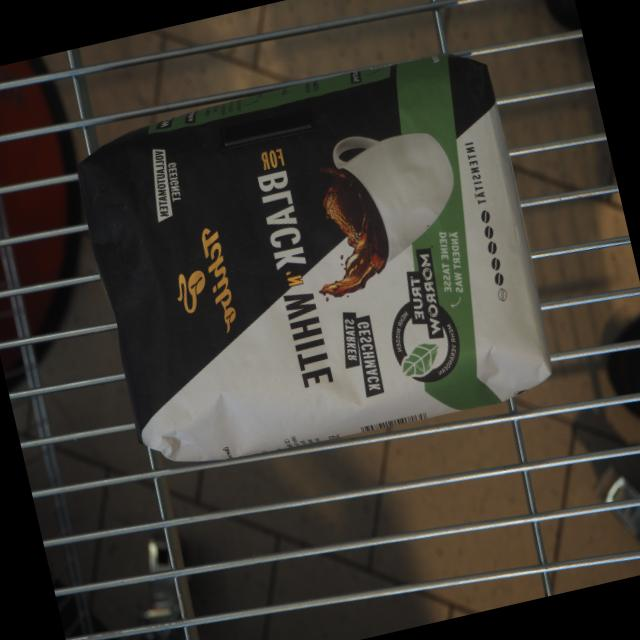BW Bohne: (59, 35, 568, 492)
